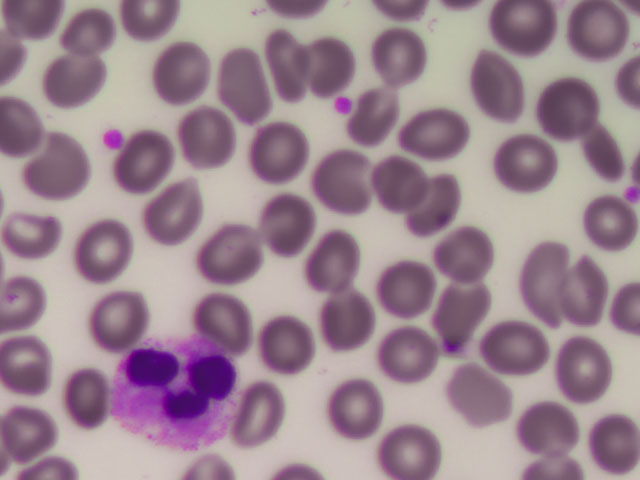Platelets: (100, 125, 123, 151), (336, 95, 357, 113), (623, 185, 640, 206)
RBC: (381, 421, 442, 480), (43, 47, 104, 105), (56, 5, 117, 63), (150, 44, 211, 102), (202, 56, 263, 114), (178, 108, 239, 166), (120, 133, 181, 191), (137, 187, 198, 245), (76, 222, 137, 280), (4, 203, 65, 261), (33, 137, 94, 195), (81, 284, 142, 342), (53, 369, 114, 427), (5, 332, 66, 390), (3, 399, 64, 457), (227, 387, 288, 445), (255, 321, 316, 379), (196, 291, 257, 349), (201, 222, 262, 280), (256, 192, 317, 250), (244, 121, 305, 179), (255, 38, 316, 96), (300, 36, 361, 94), (365, 23, 426, 81), (351, 88, 412, 146), (404, 103, 465, 161), (364, 154, 425, 212), (316, 154, 377, 212), (304, 241, 365, 299), (311, 293, 372, 351), (322, 369, 383, 427), (378, 332, 439, 390), (370, 258, 431, 316), (433, 281, 494, 339), (433, 217, 494, 275), (407, 177, 468, 235), (491, 135, 552, 193), (465, 54, 526, 112), (531, 75, 592, 133), (578, 120, 639, 178), (571, 197, 632, 255), (558, 269, 619, 327), (516, 247, 577, 305), (482, 317, 543, 375), (457, 363, 518, 421), (521, 396, 582, 454), (549, 337, 610, 395), (579, 408, 640, 466), (1, 272, 61, 330), (498, 1, 559, 58)
WBC: (107, 329, 237, 449)
